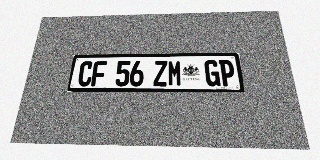5: (115, 61, 131, 86)
6: (129, 61, 144, 86)
C: (77, 61, 94, 86)
F: (91, 61, 107, 86)
G: (204, 60, 221, 86)
M: (168, 60, 182, 86)
P: (219, 60, 236, 86)
Z: (153, 60, 167, 86)
